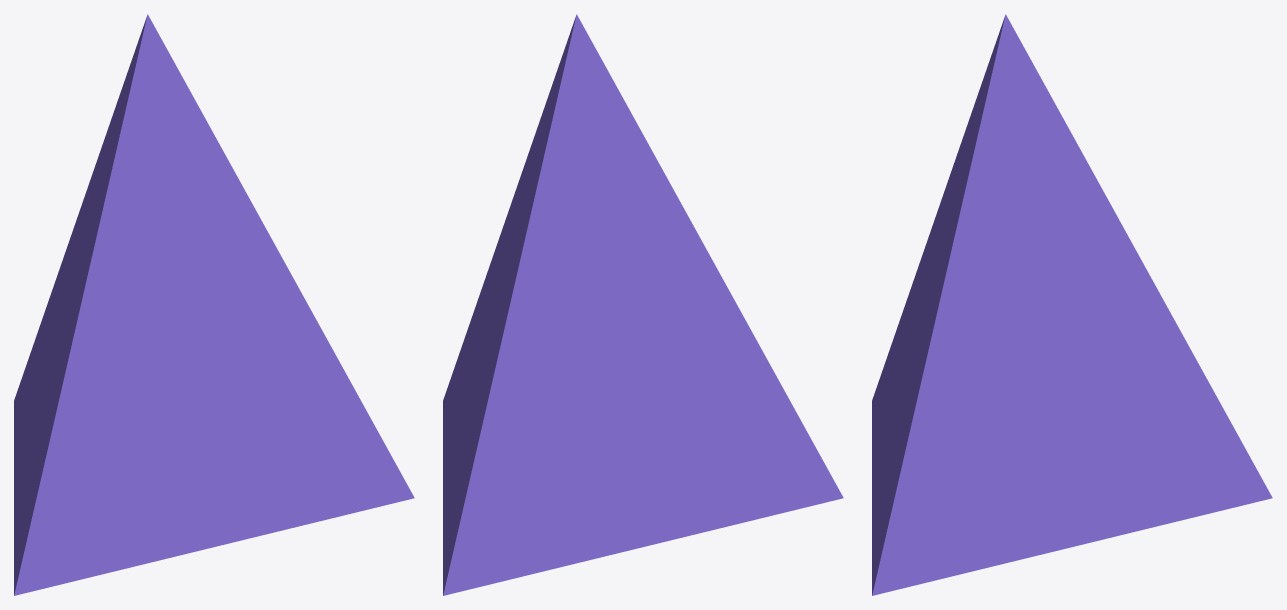
Rendered from Pyramid Purple.fbx.
3 views of the same model, side by side, from view 1: azimuth 30°, elevation 25°; view 2: azimuth 150°, elevation 25°; view 3: azimuth 270°, elevation 25° (orthographic).
Visible parts, largest first — view 1: Cone.001; view 2: Cone.001; view 3: Cone.001.
Part boxes in pixels (x1,y1,x2,y2): Cone.001: (14, 14, 414, 595); Cone.001: (443, 14, 843, 595); Cone.001: (872, 14, 1272, 595).
Bounding box in the file's own units: 173 × 200 × 150.
